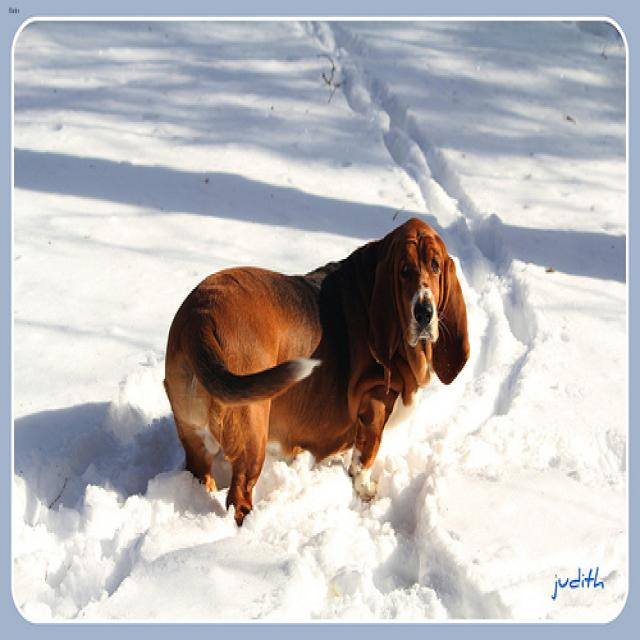dog-basset_hound: (157, 203, 475, 541)
